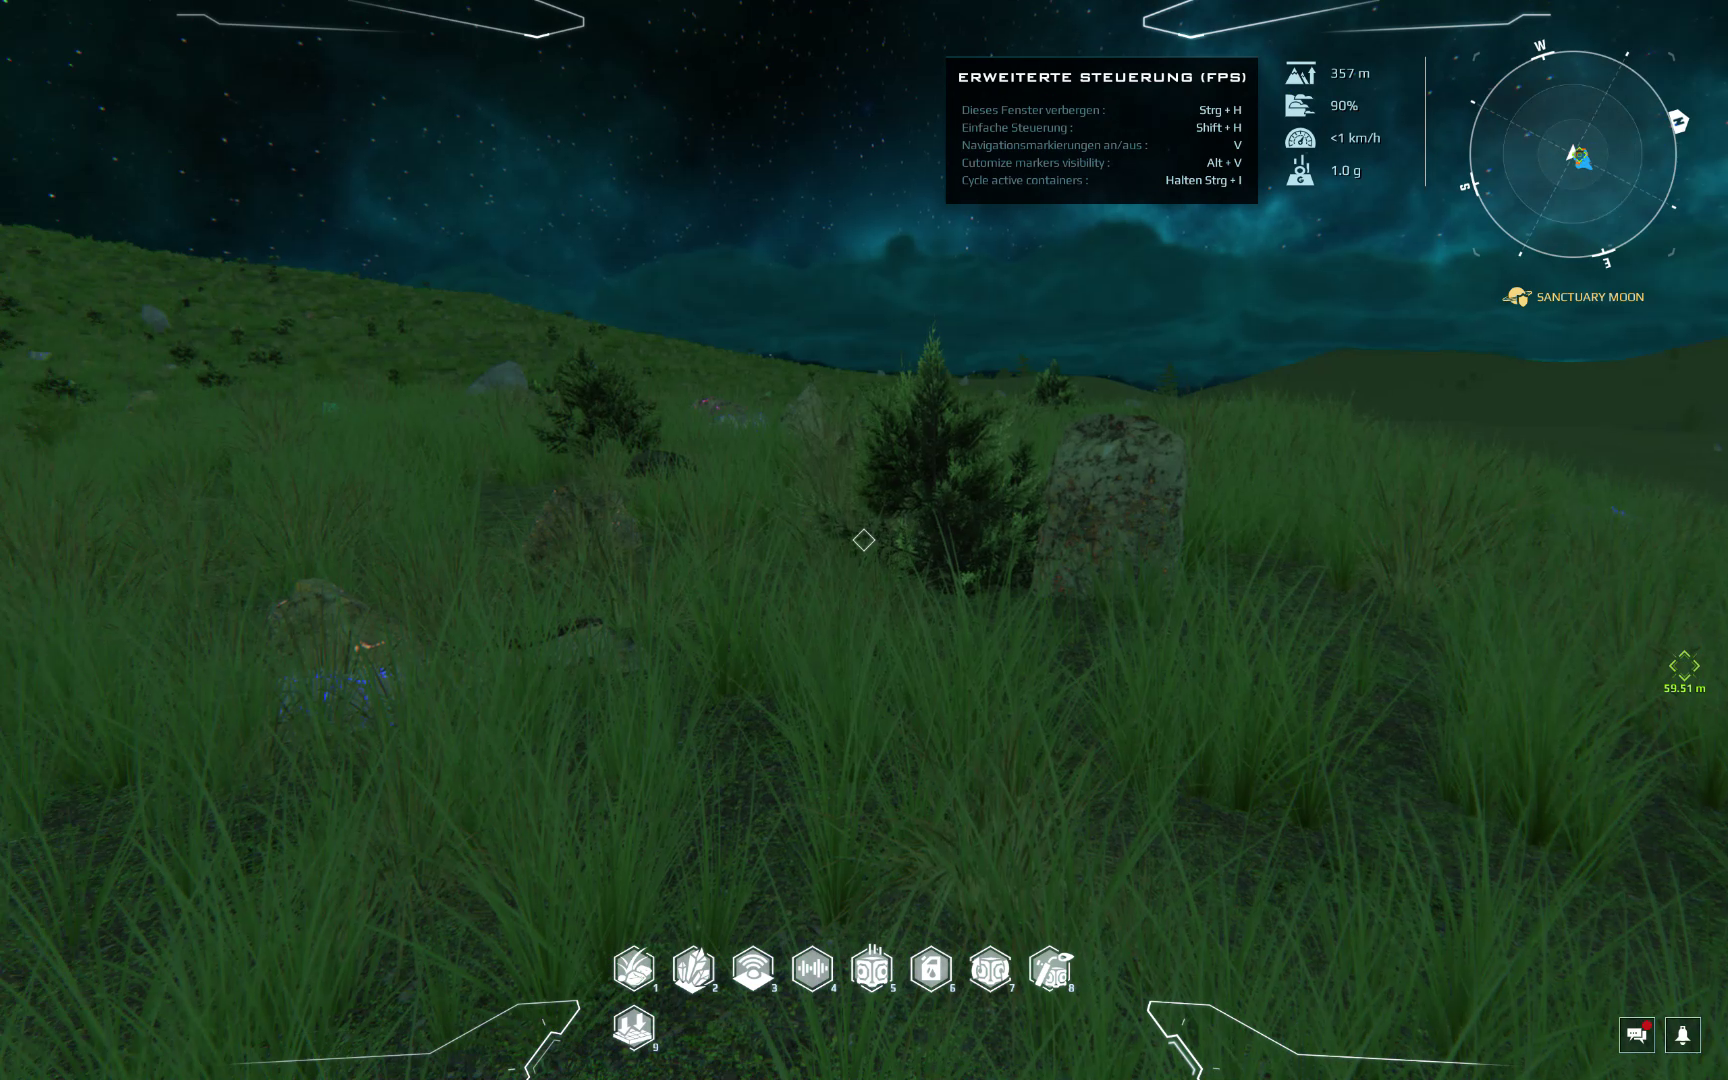Ore: (1035, 412, 1198, 625), (255, 580, 411, 656), (519, 477, 644, 569), (269, 659, 416, 722), (769, 376, 834, 445), (689, 386, 745, 429), (1594, 494, 1640, 523), (307, 392, 348, 423)
